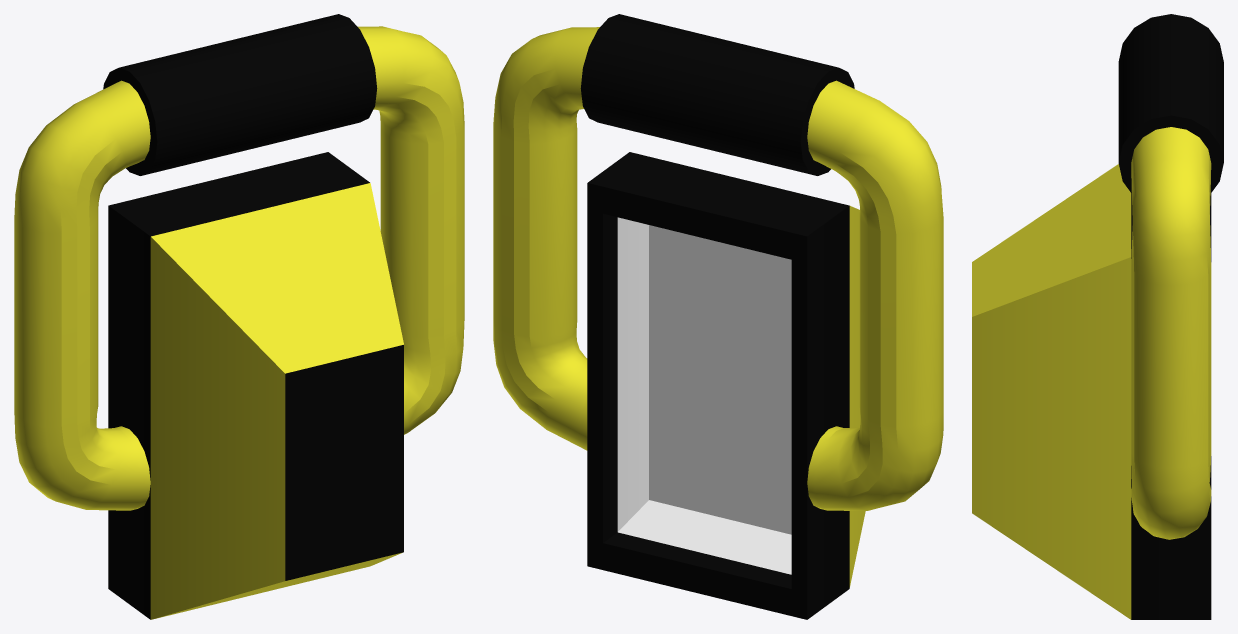
File: TopFloodLightfbx.fbx
3 renders of one model, left to right at view 1: azimuth 30°, elevation 25°; view 2: azimuth 150°, elevation 25°; view 3: azimuth 270°, elevation 25°, orthographic. The views are drawn at different scales.
Visible parts, largest first — view 1: Cylinder; view 2: Cylinder; view 3: Cylinder.
Part boxes in pixels (x1,y1,x2,y2): Cylinder: (14,14,464,619); Cylinder: (493,14,943,619); Cylinder: (972,14,1223,619).
Size of the model in its own units: 1200 by 1390 by 628.
